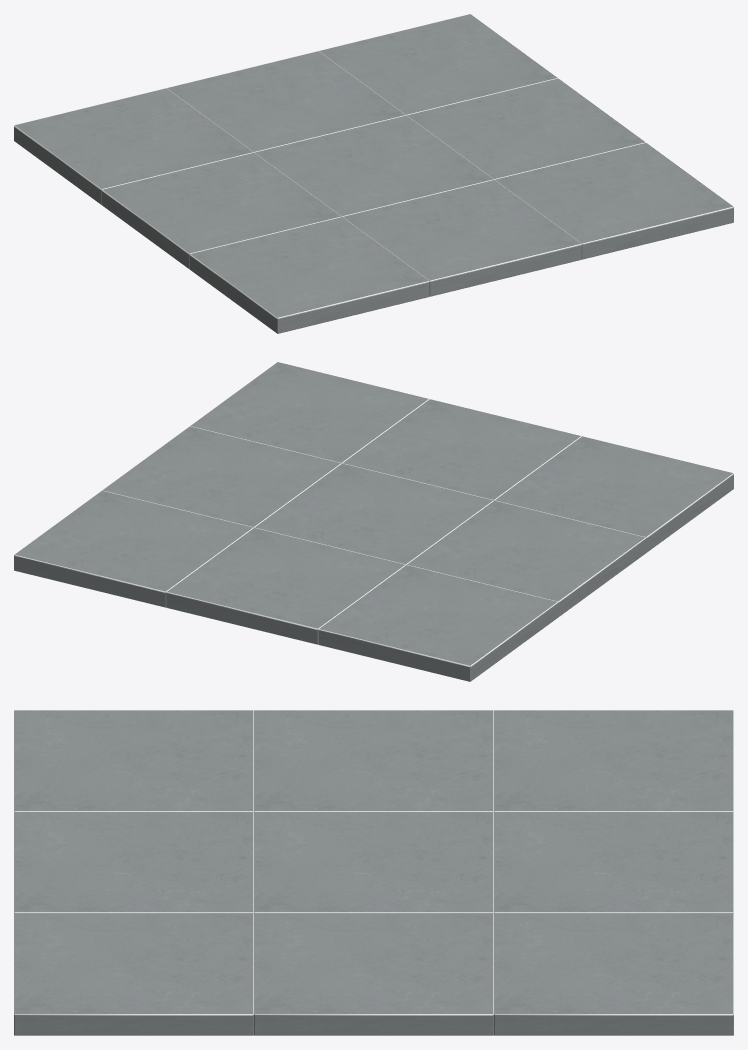
3 views of the same model, one above another, from view 1: azimuth 30°, elevation 25°; view 2: azimuth 150°, elevation 25°; view 3: azimuth 270°, elevation 25° (orthographic). The views are drawn at different scales.
Parts seen in each view (by area): view 1: плита_9 4*4м; view 2: плита_9 4*4м; view 3: плита_9 4*4м.
Boxes of the visible parts, left/top/right/bottom form: плита_9 4*4м: left=14, top=14, right=733, bottom=333; плита_9 4*4м: left=14, top=362, right=733, bottom=681; плита_9 4*4м: left=14, top=710, right=733, bottom=1035.
Bounding box in the file's own units: 1200 × 40.42 × 1200.
2 materials, 1 textured.
